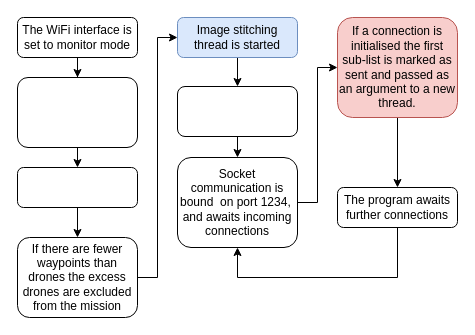
Image size: 475x335. Some labels were removed from this diagram. The shapes that lost their labels are listed below. From the top down, each one's centre as x and y in pixels, then its label:
At pixel 77 112: "The network is scanned and the IP addresses detected are appended to a list".
At pixel 237 111: "The way-point list is segmented into n sub-lists for n drones".
At pixel 77 187: "Ignore the Ground Control Server's IP".
